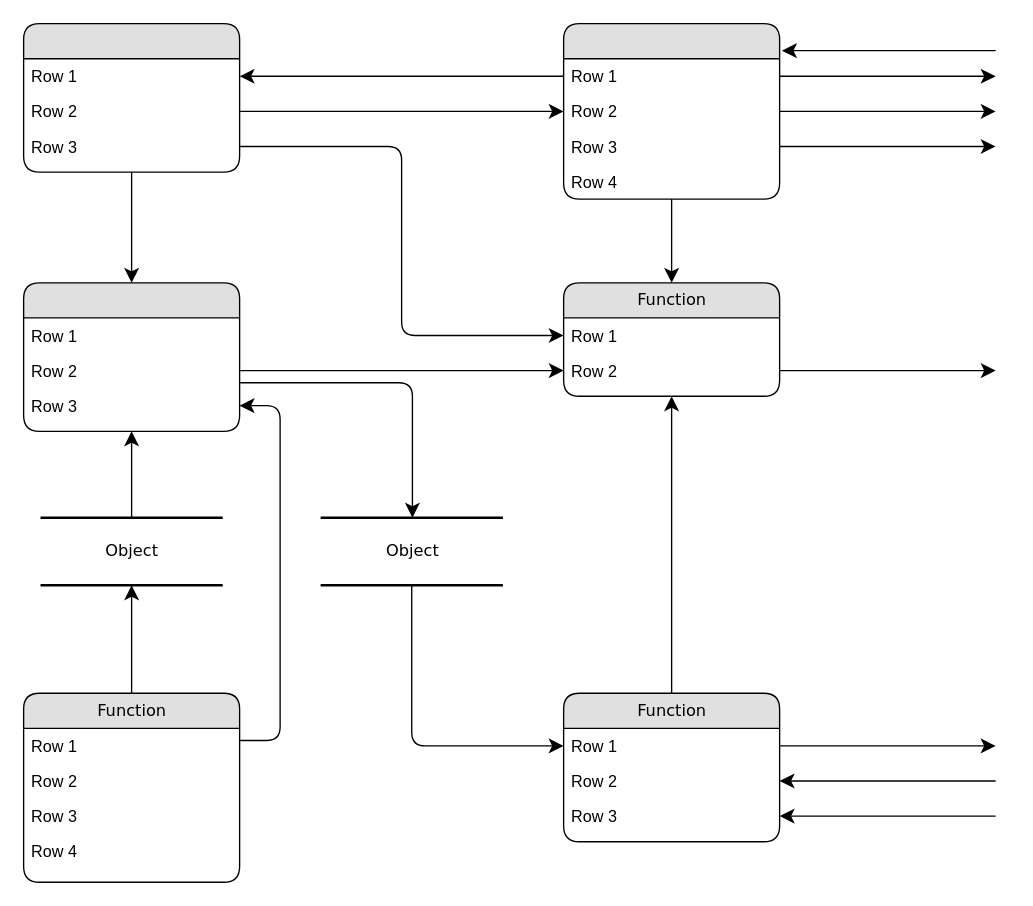
This 1033x906 diagram has some shape labels left out. The box of each missing label's shape, as (x1, y1, x2, y2) in pixels:
Camera Driver: (22, 22, 240, 172)
Darknet ROS: (22, 281, 240, 431)
Darknet ROS 3D: (562, 22, 780, 199)
